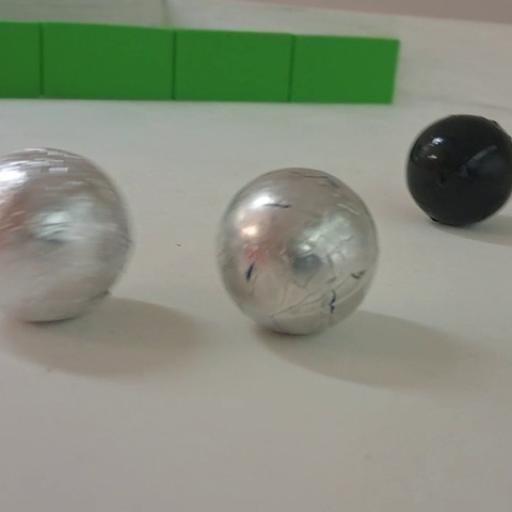alive: (212, 166, 380, 340), (0, 148, 135, 327)
dead: (402, 111, 512, 228)
